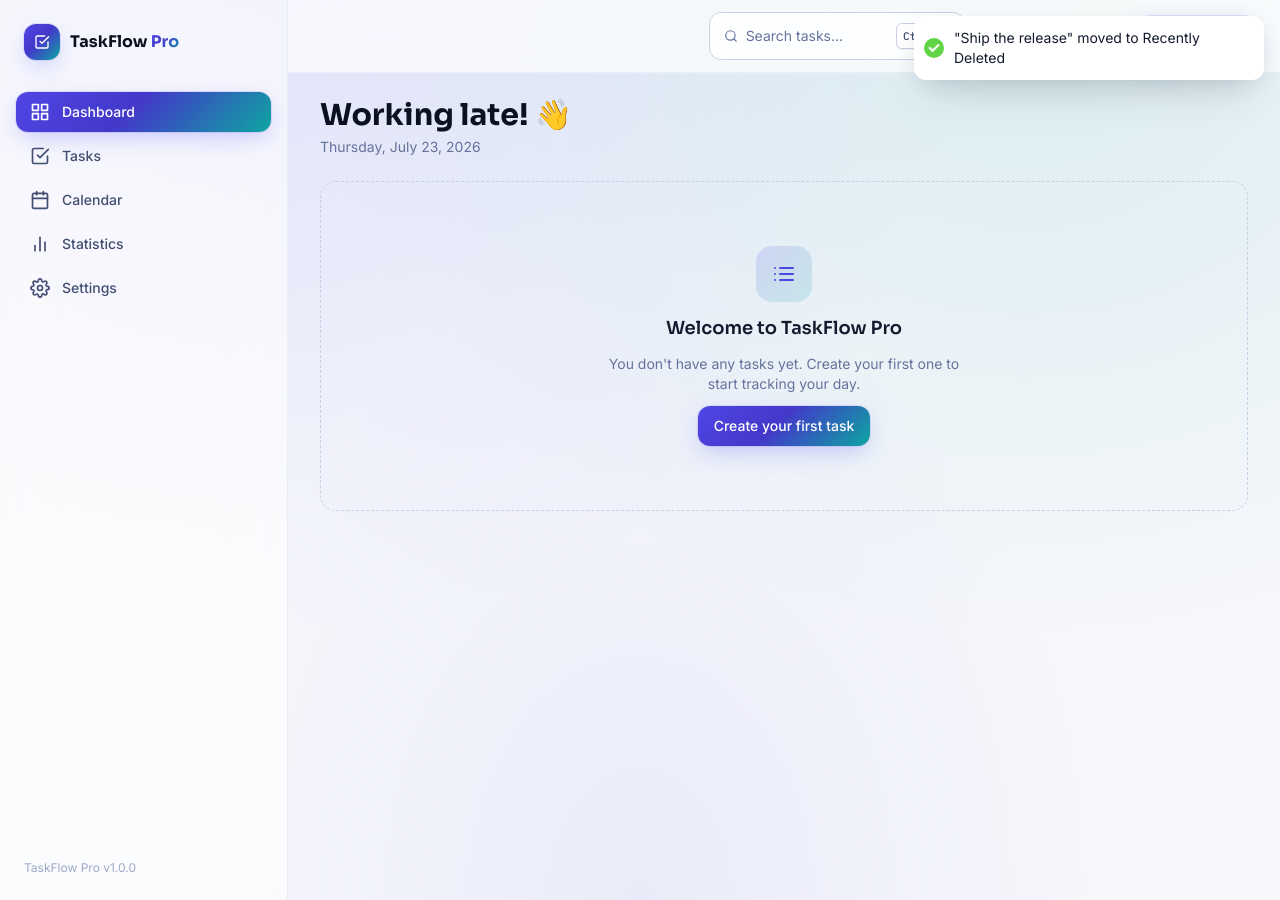
Scenario: TaskFlow Pro › navigates to Calendar, Statistics, and Settings without crashing
Click the link "Calendar": (76, 200) [30,190,122,210]
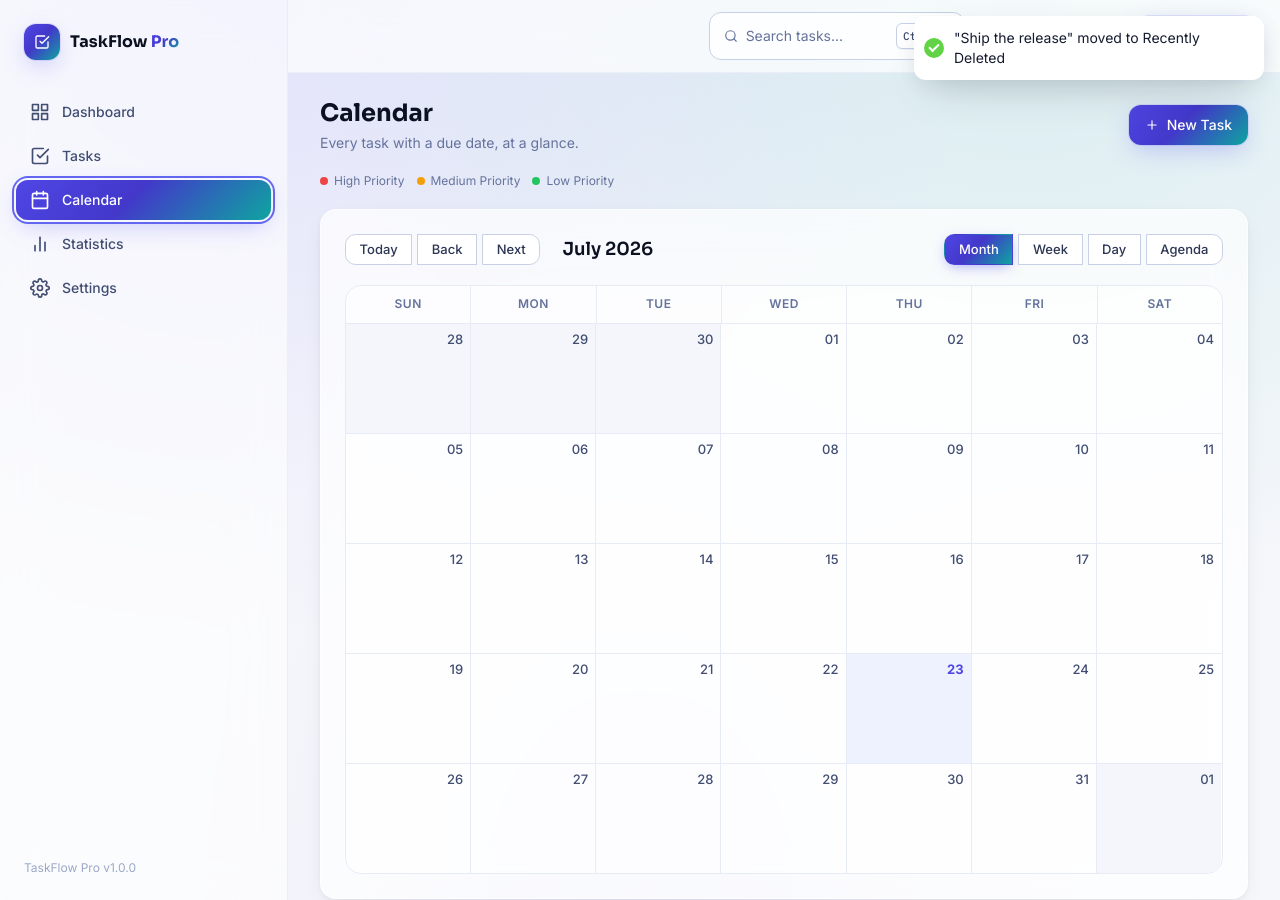
Now the heading "Calendar" is shown, box [320,98,433,128]
Click the link "Statistics": (77, 244) [30,234,124,254]
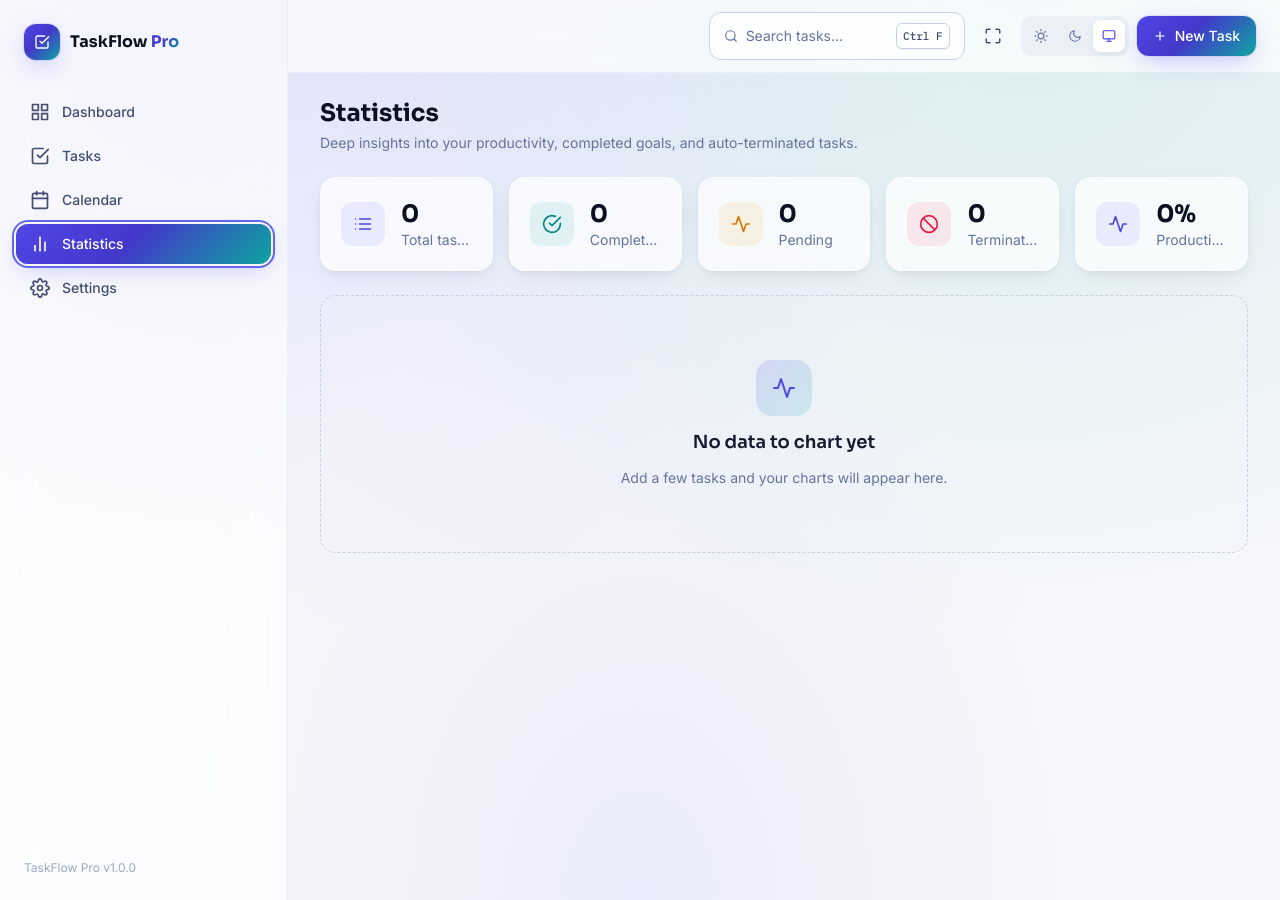
Now the heading "Statistics" is shown, box [320,98,439,128]
Click the link "Settings": (73, 288) [30,278,117,298]
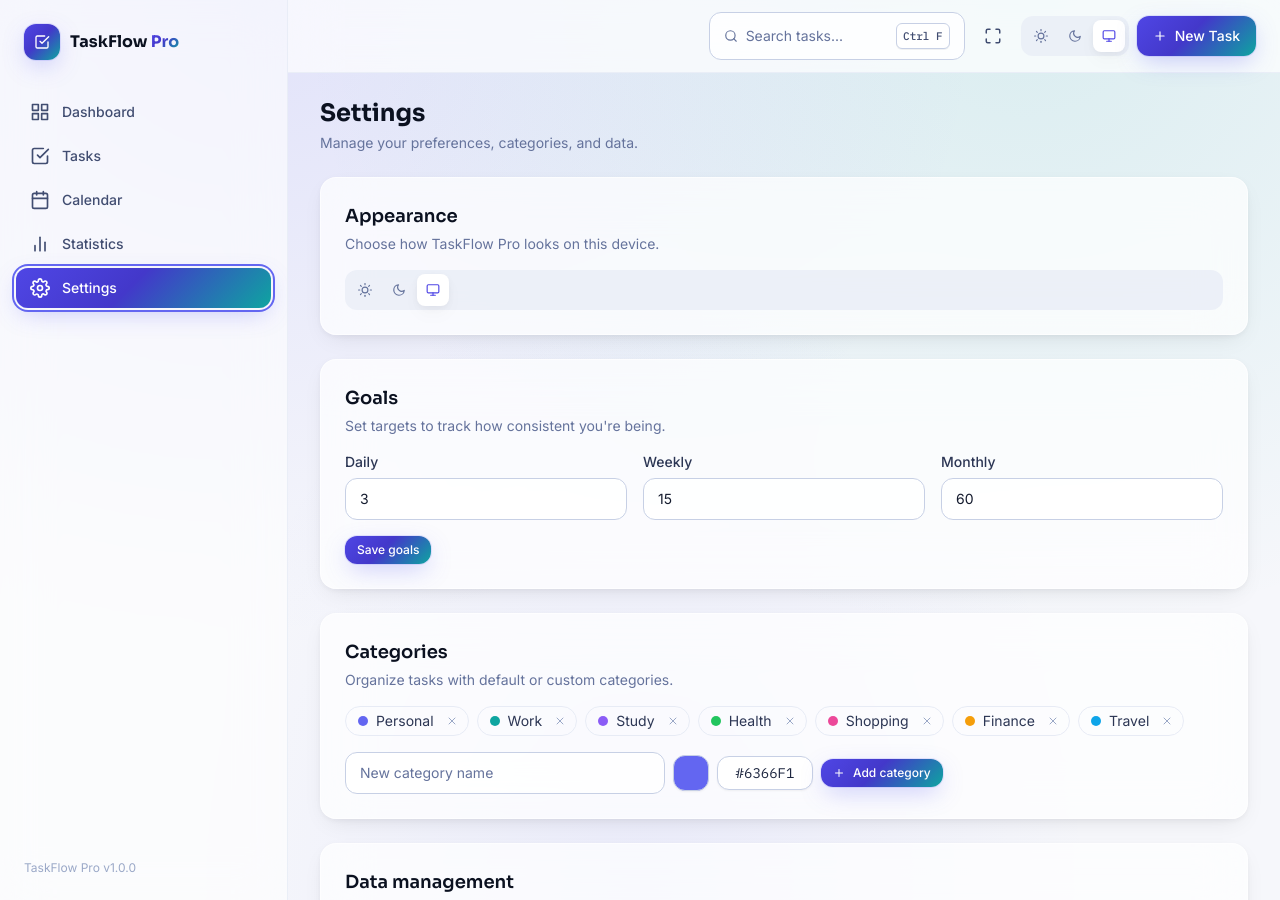
Now the heading "Settings" is shown, box [320,98,425,128]
